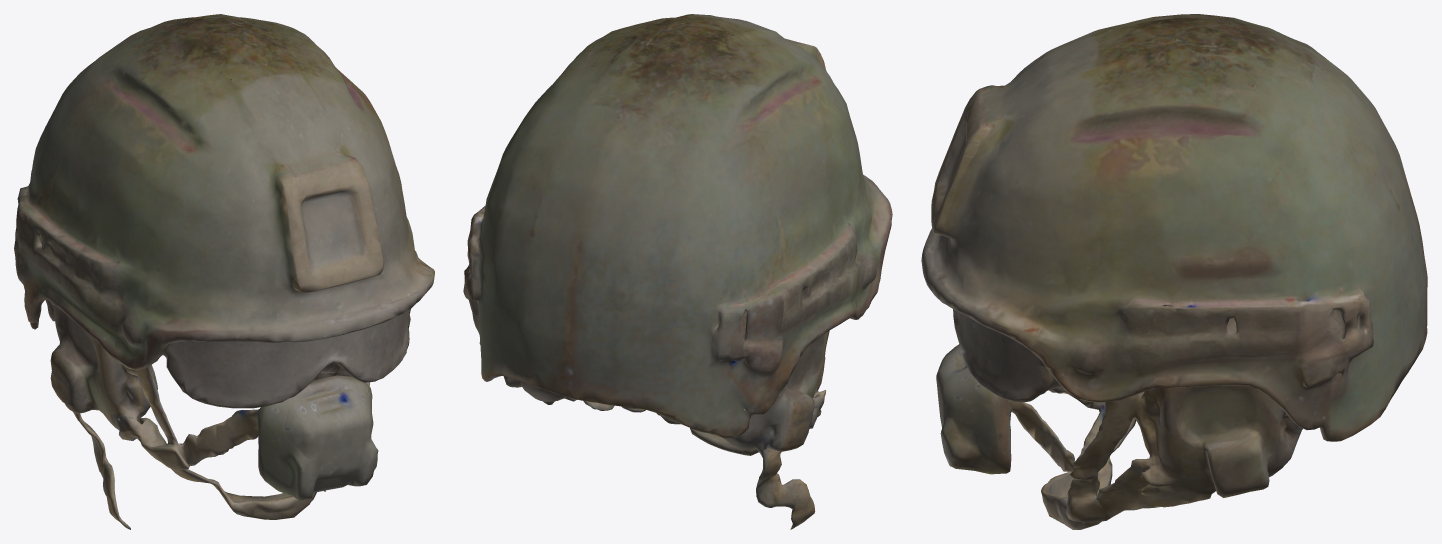
File: meshy_01971bf6-8ae4-7eca-912d-404923074482.glb
The picture shows the model from 3 angles, left to right: view 1: azimuth 30°, elevation 25°; view 2: azimuth 150°, elevation 25°; view 3: azimuth 270°, elevation 25°; orthographic projection. The views are drawn at different scales.
Visible parts, largest first — view 1: file1; view 2: file1; view 3: file1.
Part boxes in pixels (bbox=[...]): file1: bbox=[14, 14, 434, 529]; file1: bbox=[463, 14, 892, 529]; file1: bbox=[921, 14, 1427, 529].
Bounding box in the file's own units: 1.42 × 2 × 1.81.
Materials: 1 (1 with a texture image).
